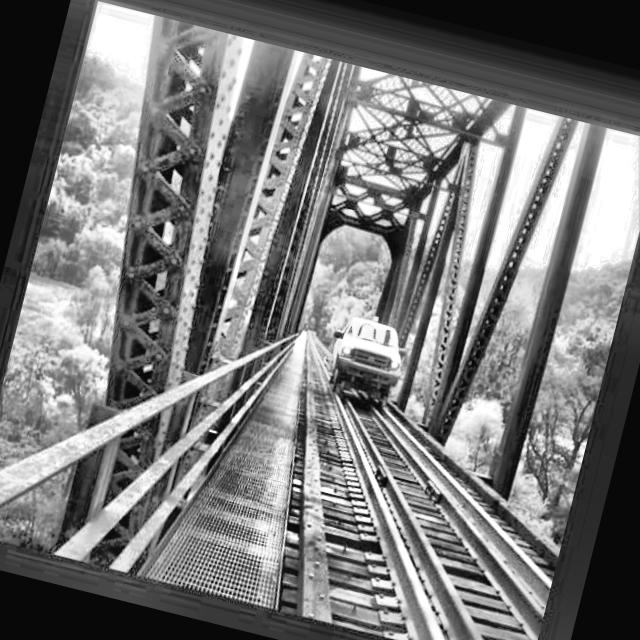Car: (309, 297, 418, 409)
